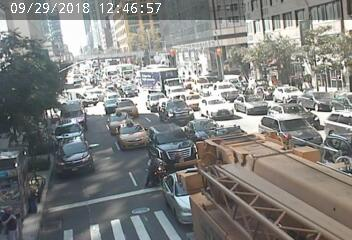car: (238, 142, 305, 214), (144, 65, 177, 88), (162, 141, 187, 169), (60, 148, 86, 172), (206, 95, 230, 118), (119, 131, 151, 145), (170, 174, 184, 199), (148, 96, 168, 113), (274, 120, 296, 135), (330, 114, 352, 129), (165, 102, 182, 119), (311, 93, 329, 109), (62, 107, 84, 120), (55, 126, 87, 134), (240, 98, 253, 112), (106, 118, 132, 124), (281, 105, 303, 112), (67, 91, 85, 99), (109, 67, 128, 74), (196, 82, 208, 92), (277, 87, 291, 95), (219, 86, 233, 94), (187, 97, 198, 107), (122, 84, 134, 93), (120, 105, 137, 109), (105, 91, 115, 96), (75, 75, 83, 79), (109, 100, 115, 105)
